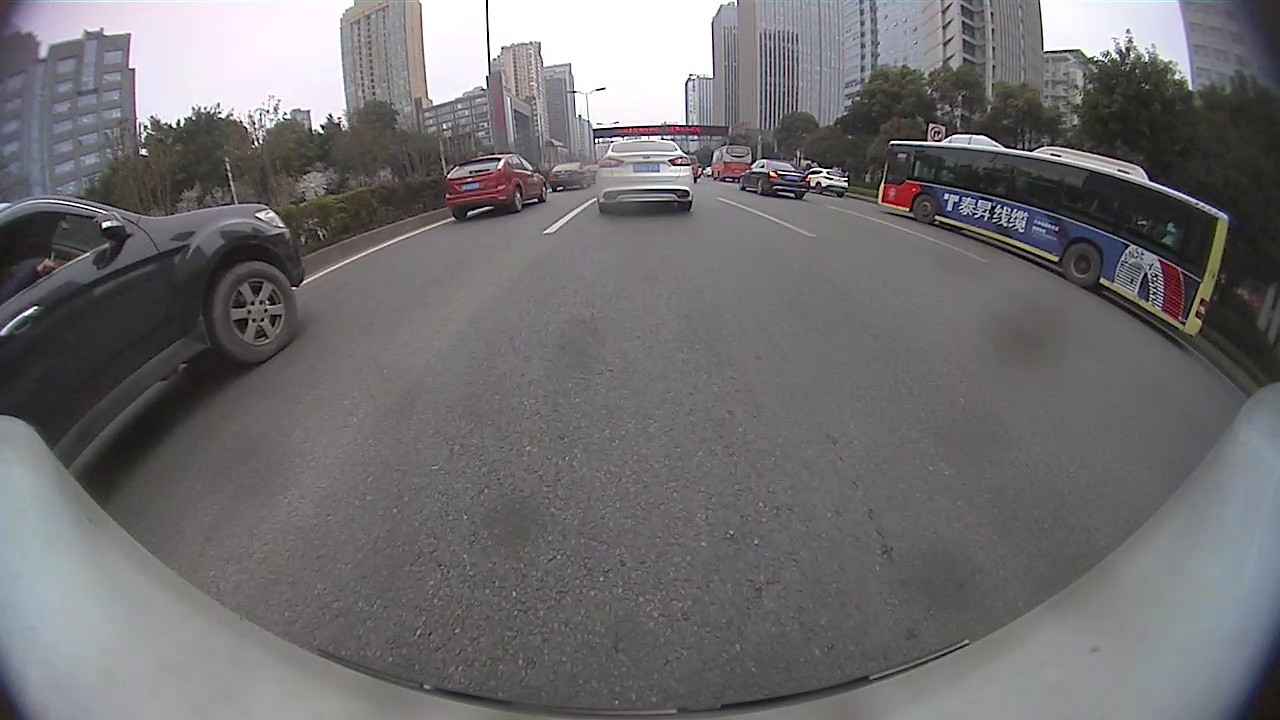bus: (873, 131, 1233, 345)
car: (1, 193, 308, 478), (594, 137, 696, 216), (443, 152, 549, 224), (737, 156, 810, 203), (805, 167, 850, 199)
front: (212, 261, 301, 362), (912, 192, 939, 227), (537, 185, 552, 204)
rear: (1061, 243, 1104, 286), (513, 188, 528, 214)
